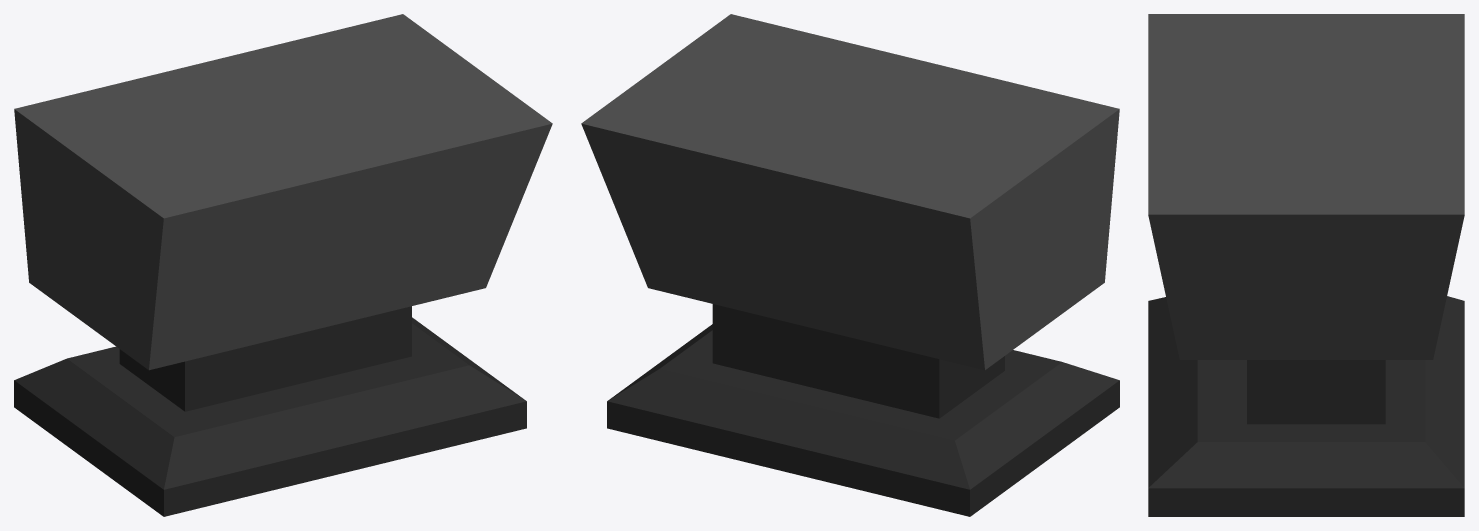
Rendered from anvil.gltf.
The picture shows the model from 3 angles, left to right: view 1: azimuth 30°, elevation 25°; view 2: azimuth 150°, elevation 25°; view 3: azimuth 270°, elevation 25°; orthographic projection. The views are drawn at different scales.
Parts seen in each view (by area): view 1: cuboid (×2); view 2: cuboid (×2); view 3: cuboid (×2).
Boxes of the visible parts, box(x1,y1,x2,y2) form: cuboid (×2): box(14, 14, 552, 516); cuboid (×2): box(581, 14, 1119, 516); cuboid (×2): box(1148, 14, 1464, 516).
Size of the model in its own units: 0.9375 by 0.6875 by 0.625.
Materials: 2 (2 with a texture image).
